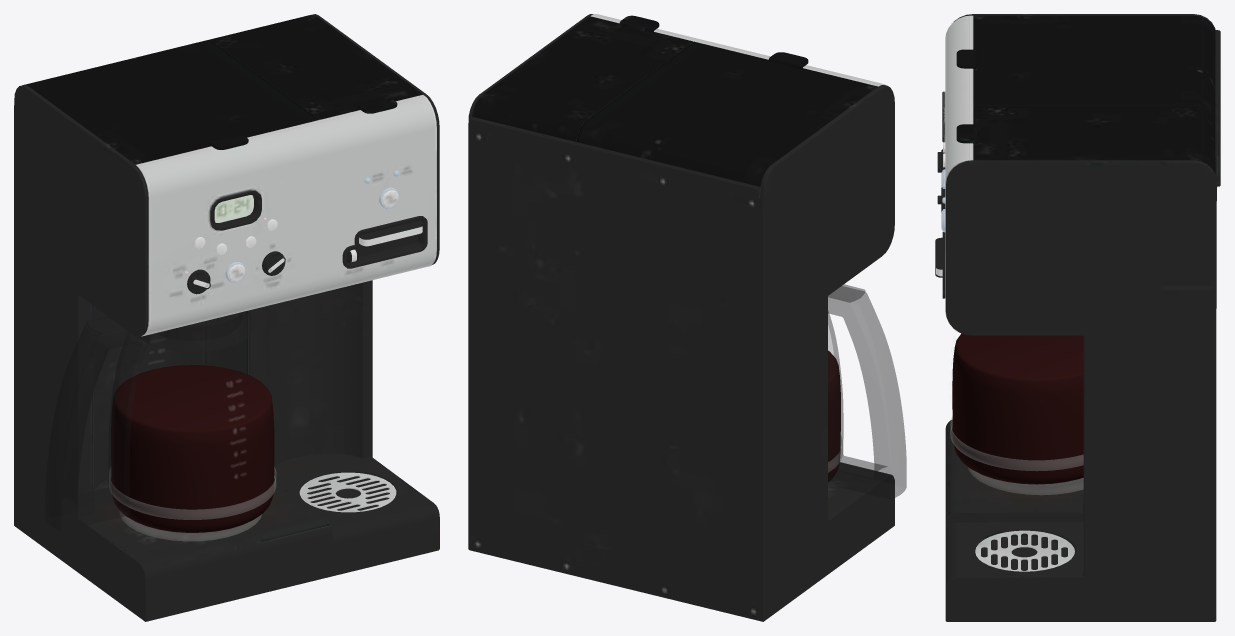
File: coffee.glb
3 renders of one model, left to right at view 1: azimuth 30°, elevation 25°; view 2: azimuth 150°, elevation 25°; view 3: azimuth 270°, elevation 25°, orthographic. The views are drawn at different scales.
Visible parts, largest first — view 1: Object_4, Object_2, Object_5; view 2: Object_4, Object_5, Object_2; view 3: Object_4, Object_2, Object_5.
Part boxes in pixels (x1,y1,x2,y2): Object_4: [14, 14, 439, 621]; Object_2: [111, 365, 274, 532]; Object_5: [45, 310, 275, 531]; Object_4: [468, 14, 894, 621]; Object_5: [828, 284, 906, 499]; Object_2: [828, 350, 840, 482]; Object_4: [935, 14, 1220, 621]; Object_2: [952, 333, 1083, 484]; Object_5: [950, 417, 1083, 470].
Size of the model in its own units: 0.2889 by 0.36 by 0.2006.
3 materials, 2 textured.
